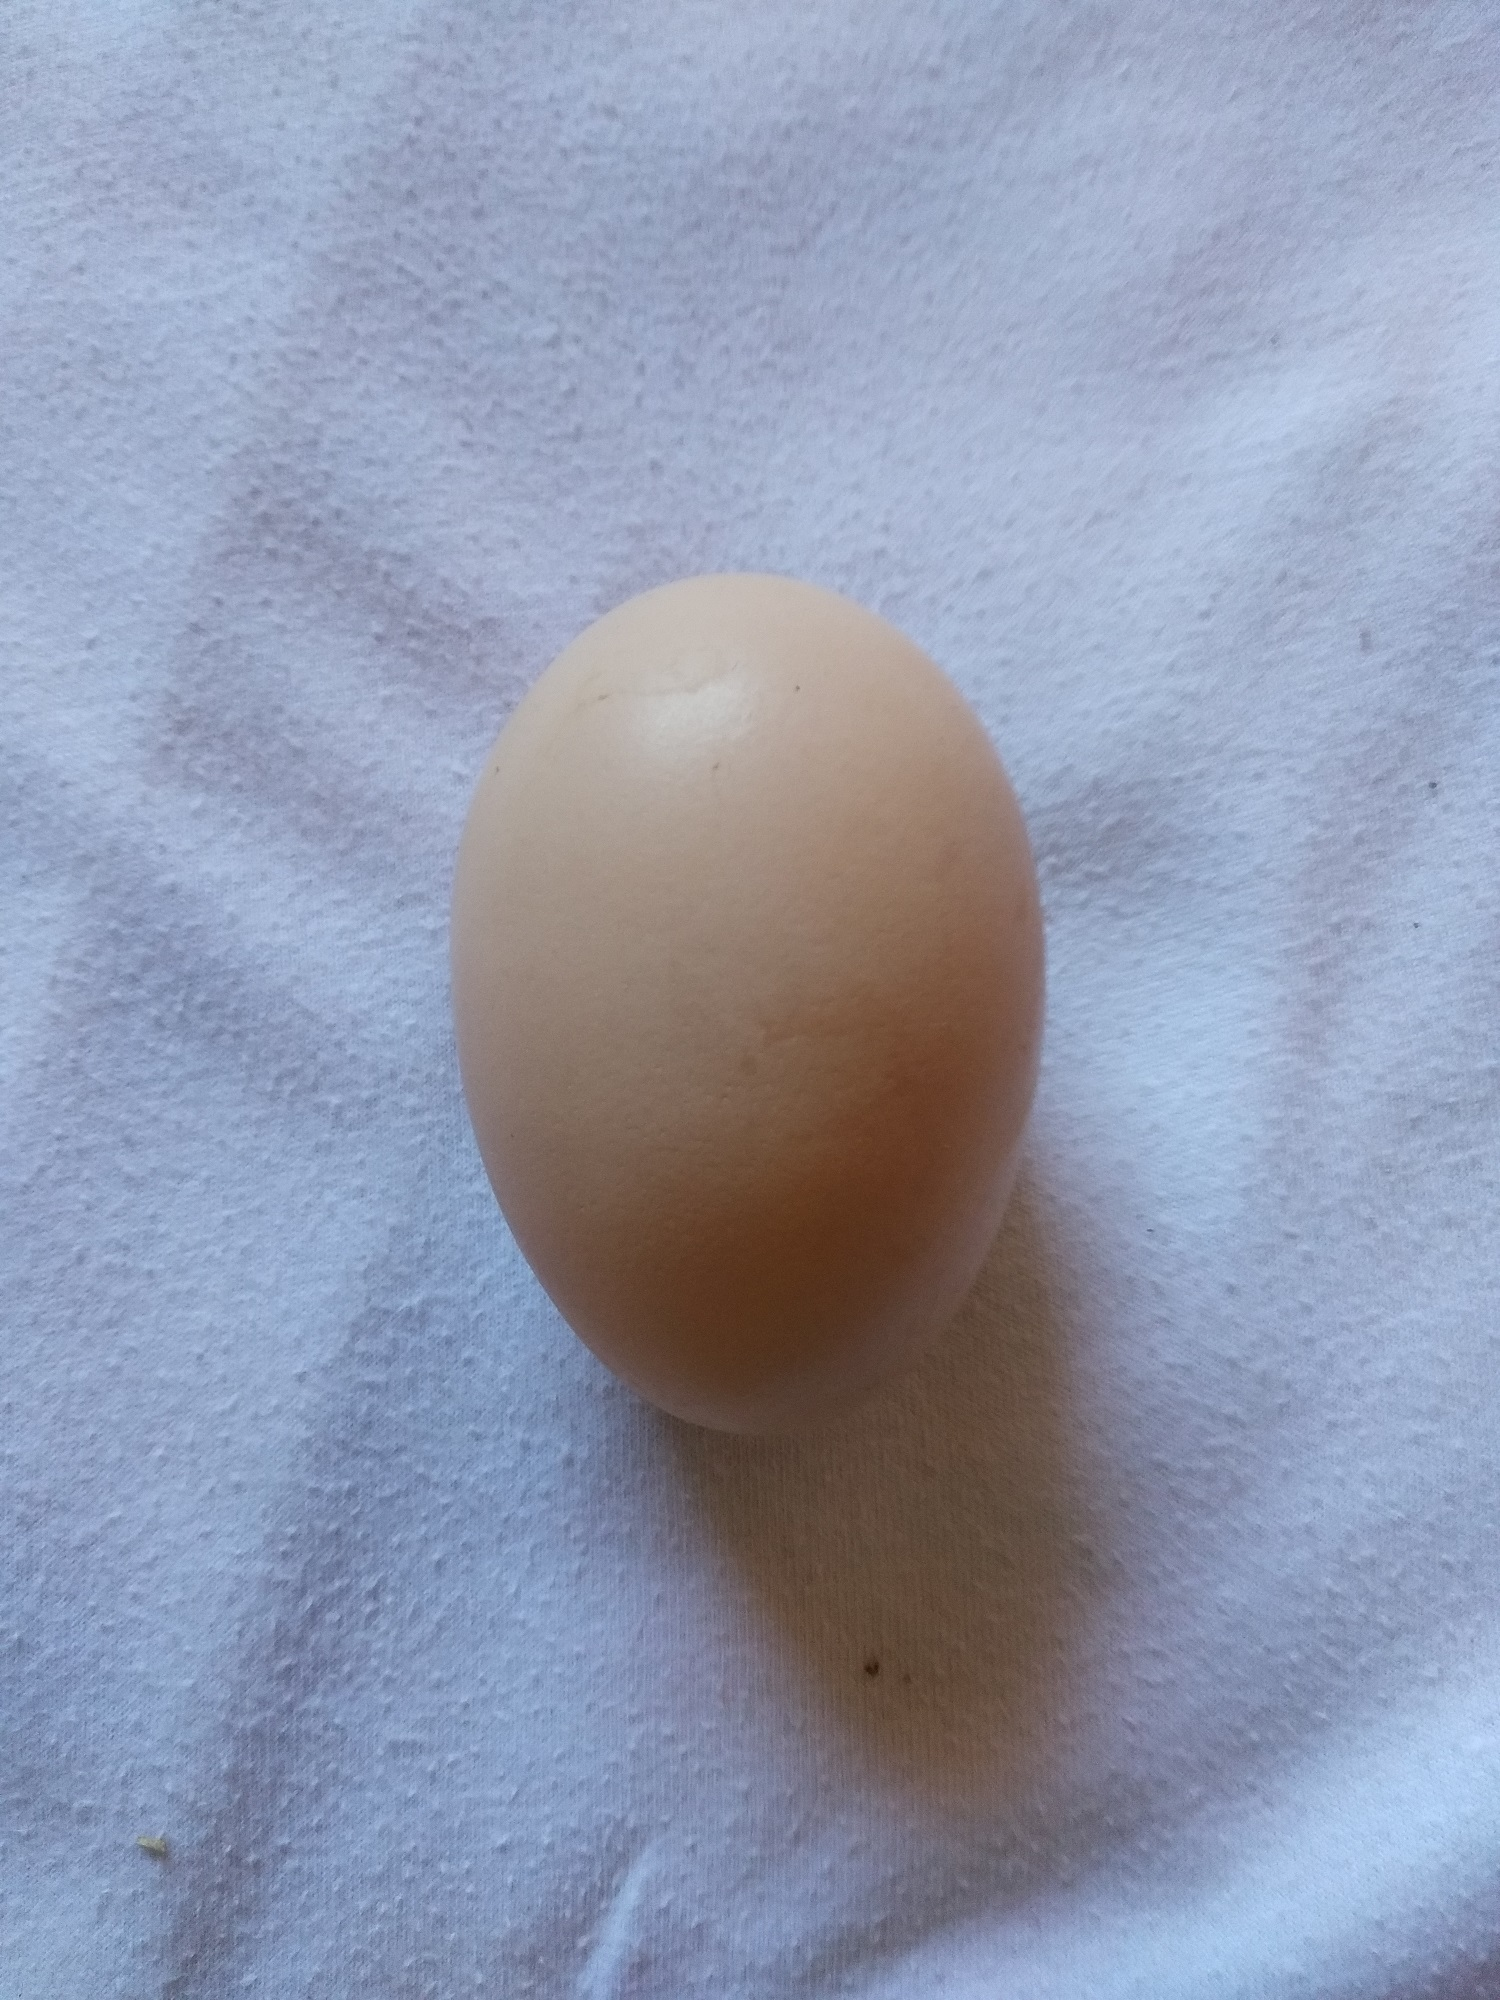Male: (447, 569, 1053, 1439)
